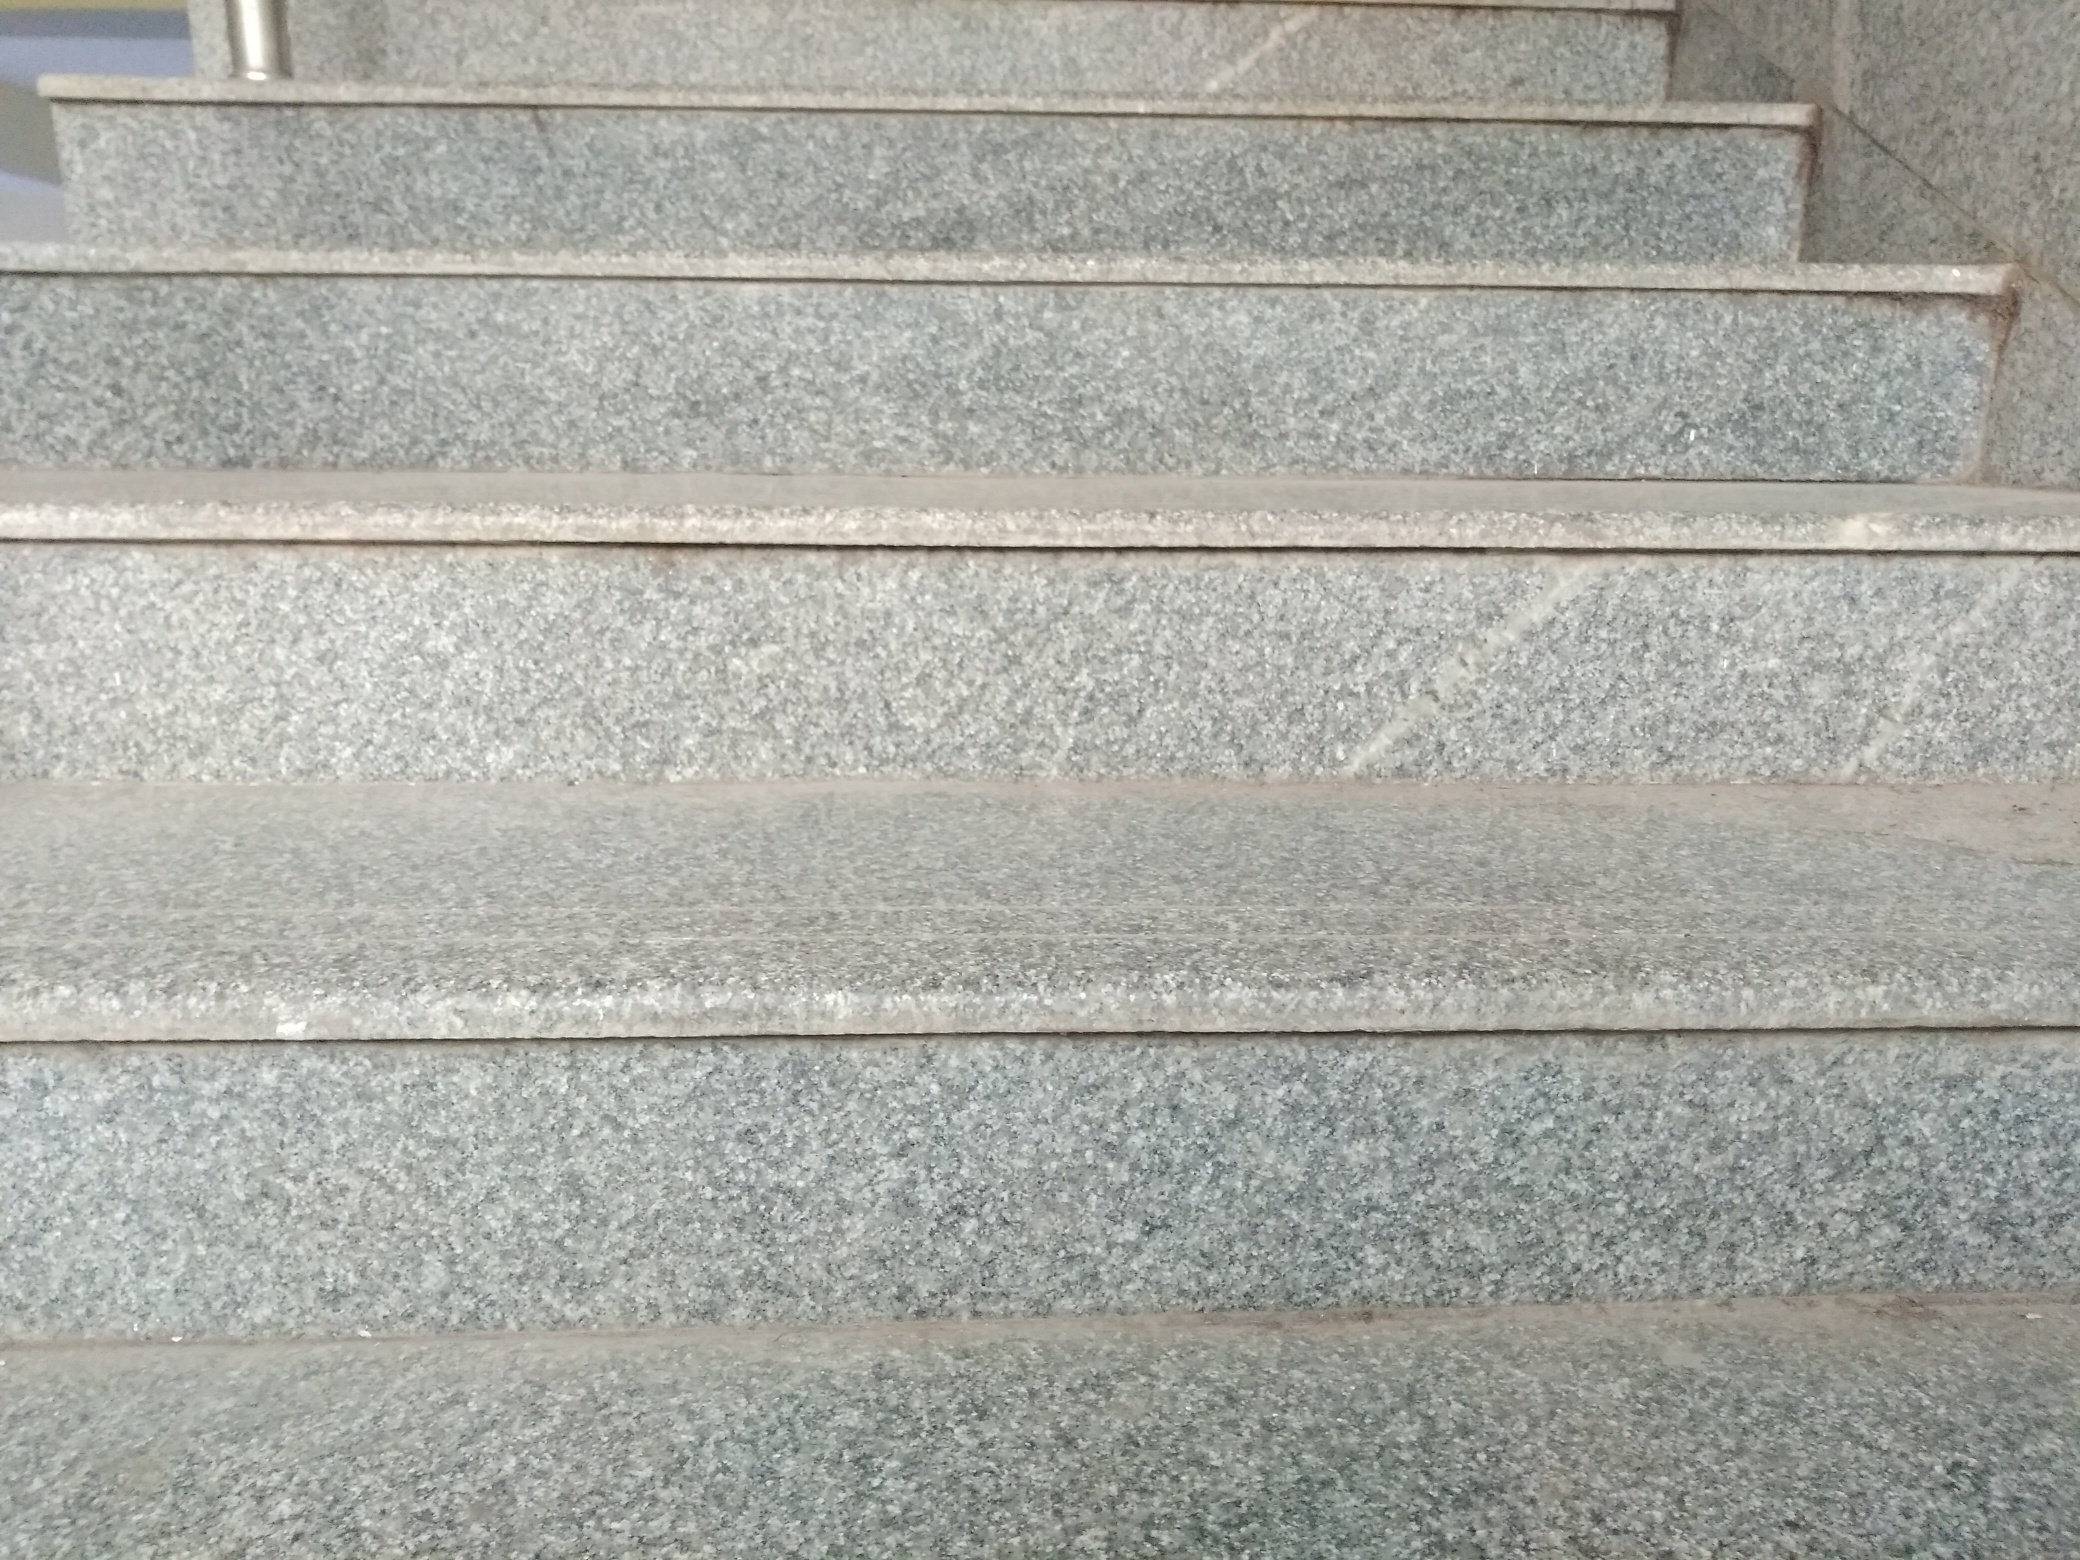stairs_up: (2, 61, 2080, 1319)
